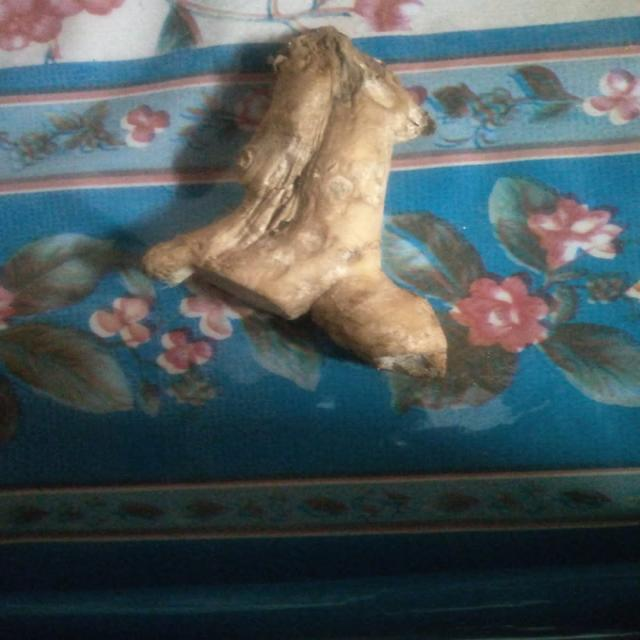ginger: (171, 48, 477, 372)
